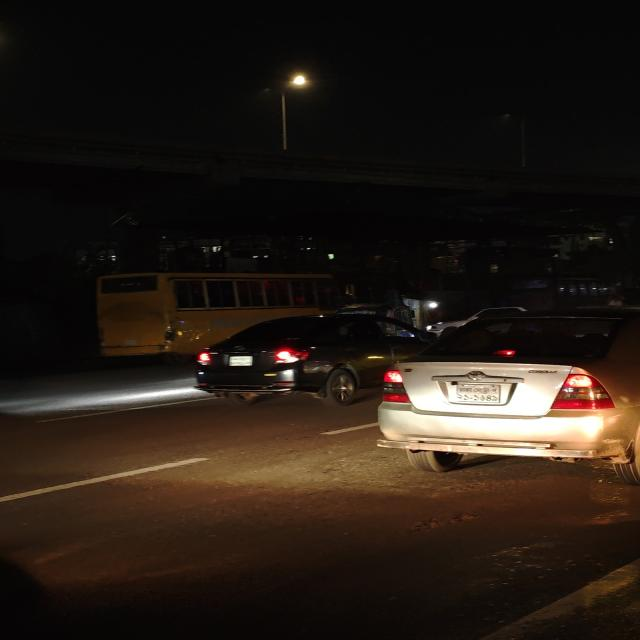bus: (90, 258, 369, 362)
car: (378, 310, 640, 478), (192, 311, 421, 413)
